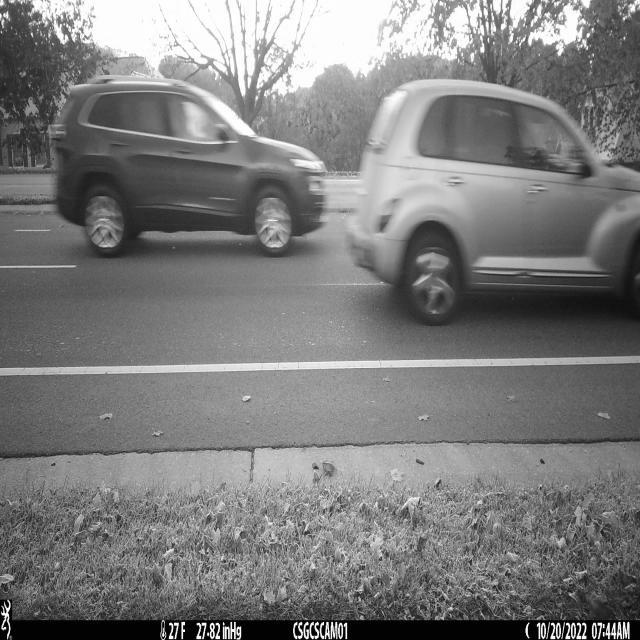SUV: (345, 78, 640, 327), (50, 75, 327, 259)
